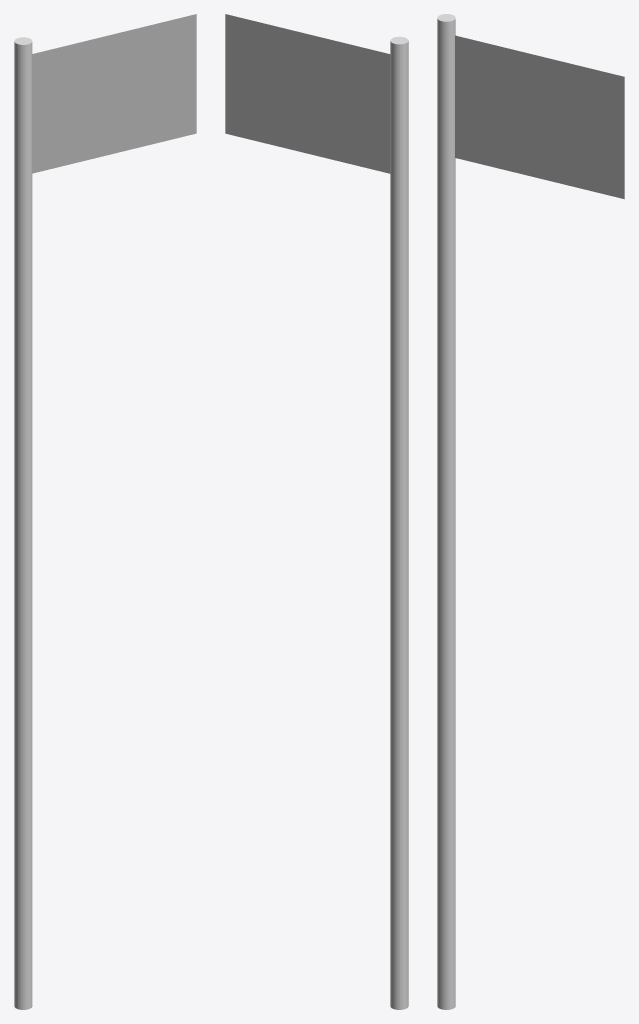
3 renders of one model, left to right at view 1: azimuth 30°, elevation 25°; view 2: azimuth 150°, elevation 25°; view 3: azimuth 330°, elevation 25°, orthographic. The views are drawn at different scales.
Visible parts, largest first — view 1: d6; view 2: d6; view 3: d6.
Boxes of the visible parts, left/top/right/bottom form: d6: left=14, top=14, right=196, bottom=1009; d6: left=225, top=14, right=408, bottom=1009; d6: left=437, top=14, right=624, bottom=1009.
Bounding box in the file's own units: 0.0655 × 0.3332 × 0.00566.
